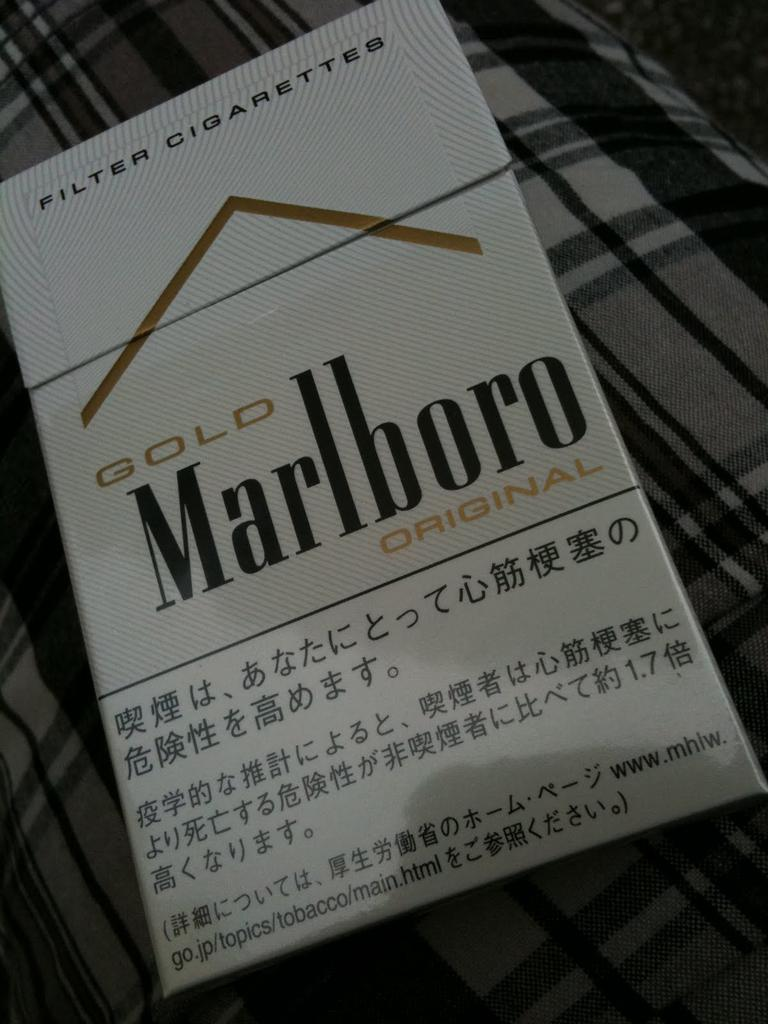marlboro_gold: (37, 96, 594, 879)
